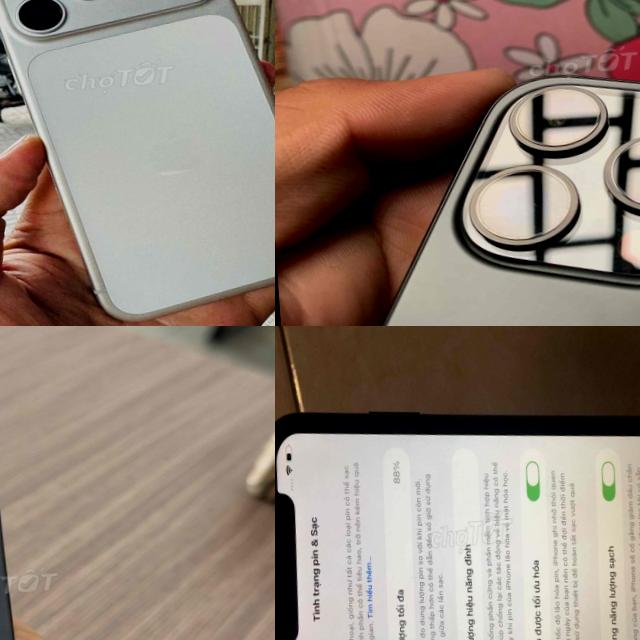gen_11: (275, 368, 640, 640)
gen_15: (0, 326, 77, 640)
gen_16: (325, 48, 640, 326)
gen_17: (0, 0, 275, 326)
scratch: (275, 465, 298, 610)
